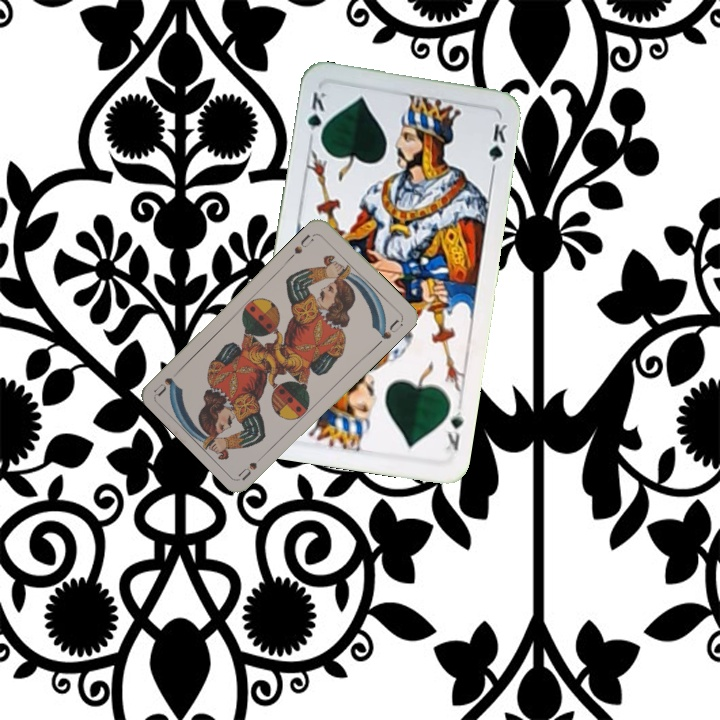GK: (303, 88, 330, 145), (439, 399, 466, 454)
SU: (235, 448, 270, 482), (290, 230, 316, 257)
